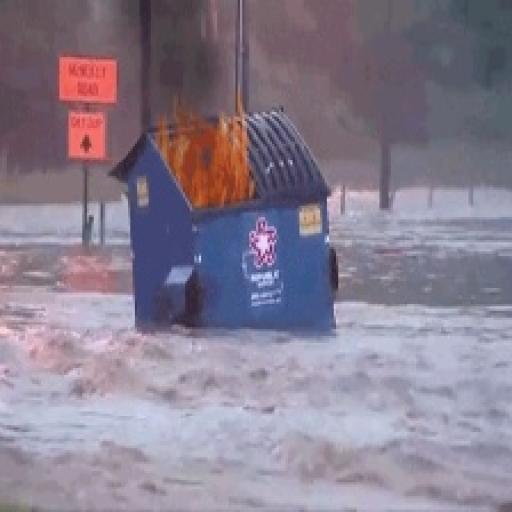fire and smoke: (156, 103, 253, 207)
